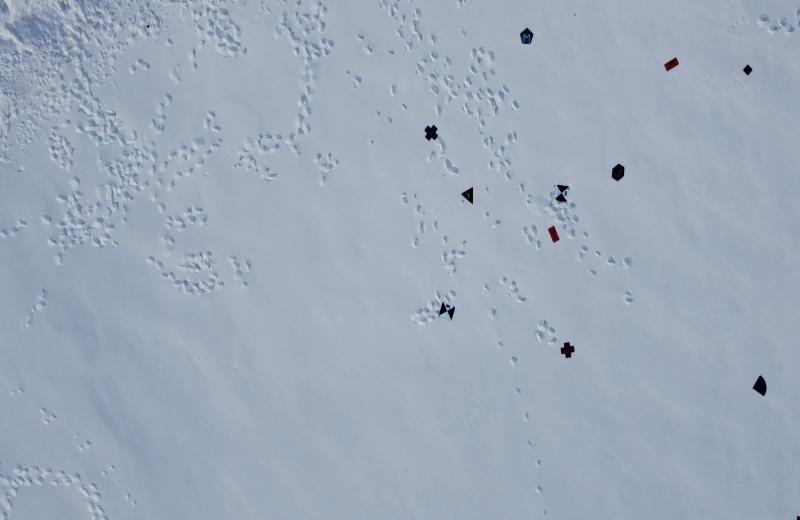Cross: (423, 124, 440, 142), (560, 341, 576, 359)
Hexagon: (610, 163, 626, 182)
Pentagon: (518, 27, 535, 47)
Quarter Circle: (752, 375, 768, 397)
Rectangle: (547, 224, 560, 243), (664, 57, 680, 72)
Square: (741, 63, 754, 78)
Triangle: (460, 186, 476, 206)
